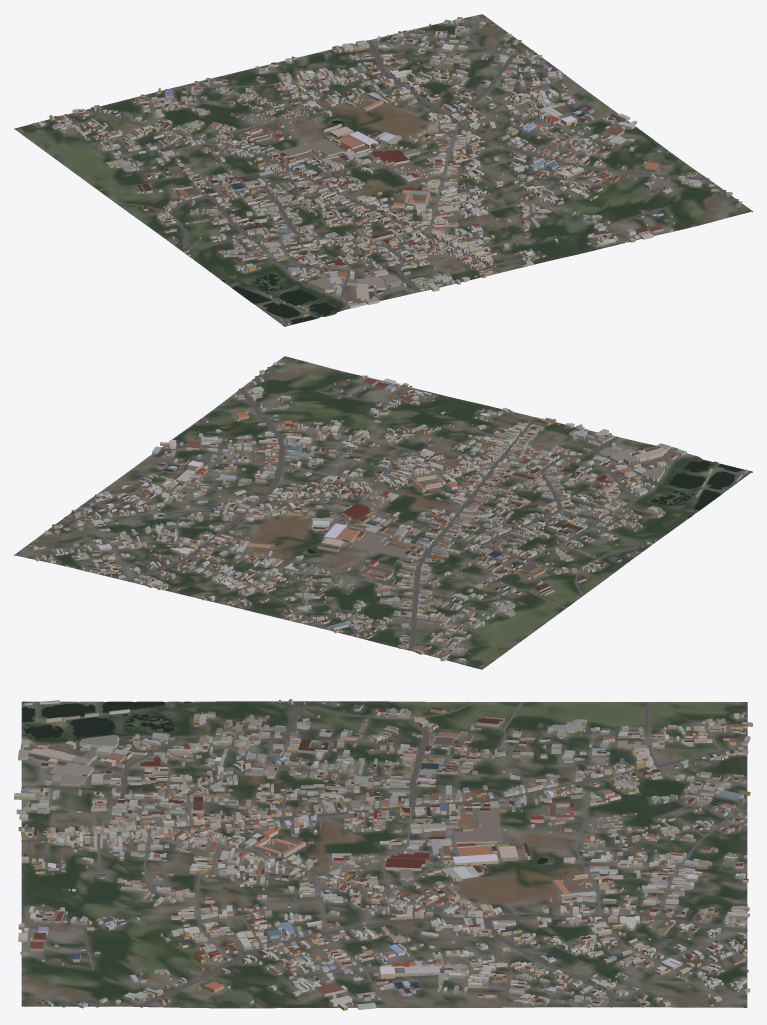
The picture shows the model from 3 angles, top to bottom: view 1: azimuth 30°, elevation 25°; view 2: azimuth 150°, elevation 25°; view 3: azimuth 270°, elevation 25°; orthographic projection. The views are drawn at different scales.
Visible parts, largest first — view 1: ground, buildings, roads, water; view 2: ground, buildings, roads, water; view 3: ground, buildings, roads, water.
Boxes of the visible parts, box(x1,y1,x2,y2) form: ground: box(14, 14, 752, 326); buildings: box(32, 17, 742, 324); roads: box(41, 18, 738, 317); water: box(222, 120, 343, 326); ground: box(14, 356, 752, 669); buildings: box(29, 361, 747, 664); roads: box(23, 366, 718, 654); water: box(307, 460, 751, 553); ground: box(21, 701, 747, 1008); buildings: box(14, 699, 752, 1010); roads: box(21, 701, 747, 1007); water: box(22, 701, 548, 863).
Bounding box in the file's own units: 1413 × 20.71 × 1426.
